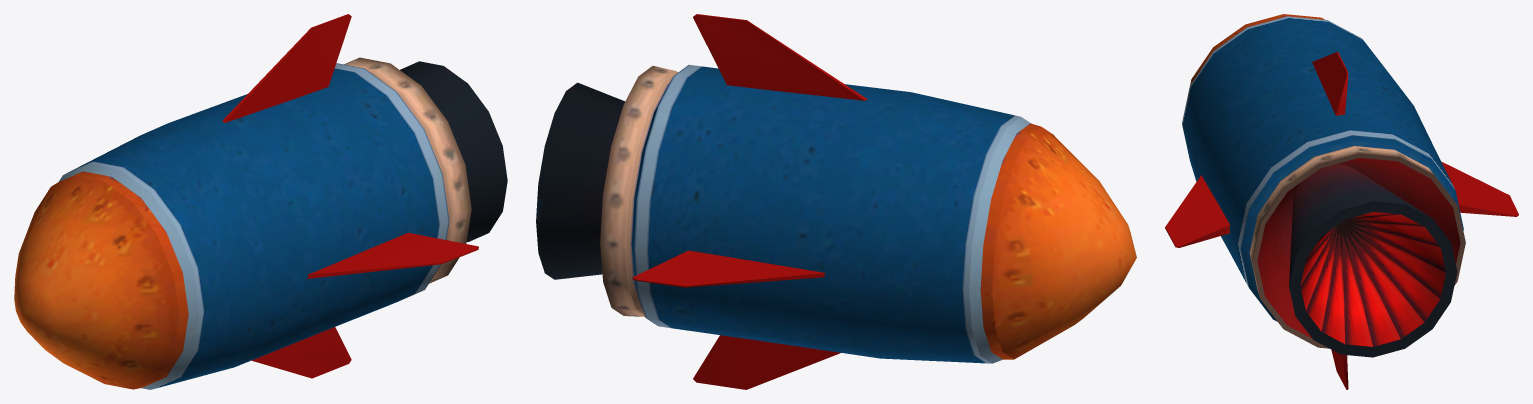
Rendered from power-up.fbx.
The picture shows the model from 3 angles, left to right: view 1: azimuth 30°, elevation 25°; view 2: azimuth 150°, elevation 25°; view 3: azimuth 270°, elevation 25°; orthographic projection. The views are drawn at different scales.
Visible parts, largest first — view 1: node_id37; view 2: node_id37; view 3: node_id37.
Boxes of the visible parts, bbox=[...] form: node_id37: bbox=[14, 14, 507, 389]; node_id37: bbox=[536, 14, 1136, 389]; node_id37: bbox=[1165, 14, 1518, 389].
Size of the model in its own units: 0.7621 by 0.512 by 0.5135.
Materials: 1 (1 with a texture image).
